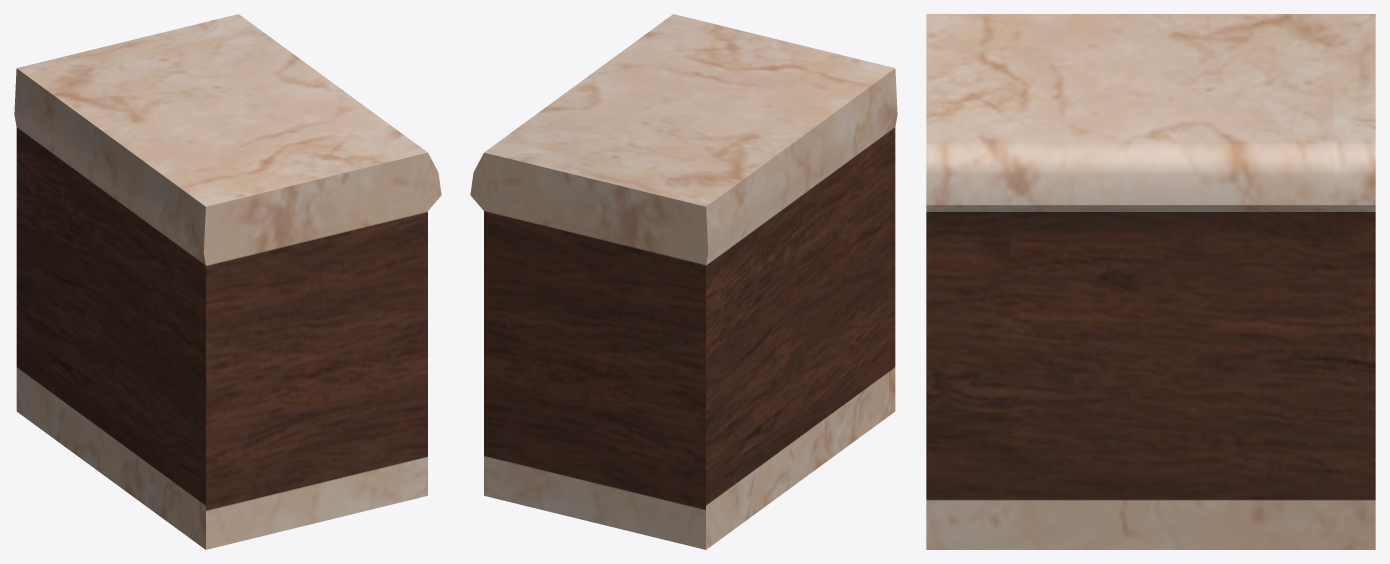
Rendered from m_kitchen_surface_1.fbx.
3 renders of one model, left to right at view 1: azimuth 30°, elevation 25°; view 2: azimuth 150°, elevation 25°; view 3: azimuth 270°, elevation 25°, orthographic. The views are drawn at different scales.
Visible parts, largest first — view 1: m_kitchen_bench_1; view 2: m_kitchen_bench_1; view 3: m_kitchen_bench_1.
Part boxes in pixels (x1=…): m_kitchen_bench_1: x1=14, y1=14, x2=441, y2=549; m_kitchen_bench_1: x1=470, y1=14, x2=897, y2=549; m_kitchen_bench_1: x1=926, y1=14, x2=1375, y2=549.
Size of the model in its own units: 72.53 by 100 by 100.
